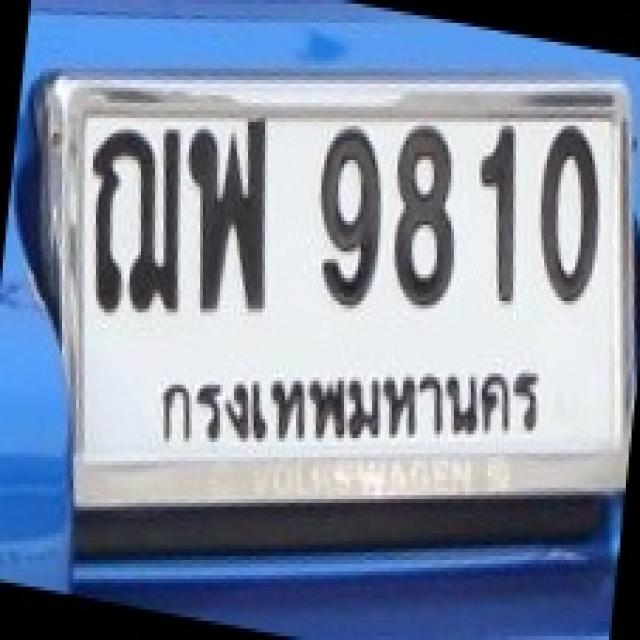0: (534, 129, 608, 333)
1: (468, 110, 536, 336)
8: (384, 126, 469, 345)
9: (315, 114, 386, 323)
A12: (82, 113, 188, 338)
A31: (190, 114, 278, 337)
BKK: (152, 360, 571, 456)
